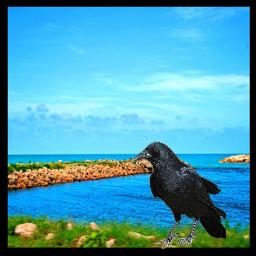Crow: (133, 141, 226, 249)
